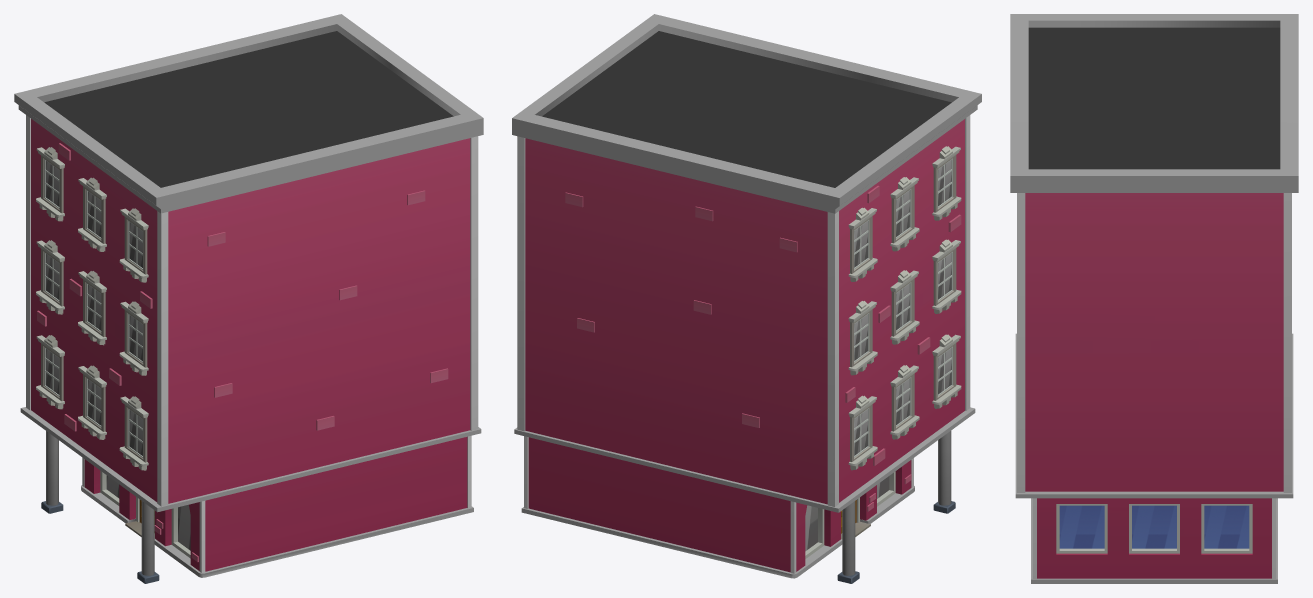
Rendered from Building_4_C.fbx.
The picture shows the model from 3 angles, left to right: view 1: azimuth 30°, elevation 25°; view 2: azimuth 150°, elevation 25°; view 3: azimuth 270°, elevation 25°; orthographic projection.
Parts seen in each view (by area): view 1: Building_4_C; view 2: Building_4_C; view 3: Building_4_C.
Boxes of the visible parts, x1,y1,x2,y2 form: Building_4_C: [14, 14, 483, 583]; Building_4_C: [512, 14, 981, 583]; Building_4_C: [1010, 14, 1298, 583].
Bounding box in the file's own units: 1585 × 1855 × 1191.
